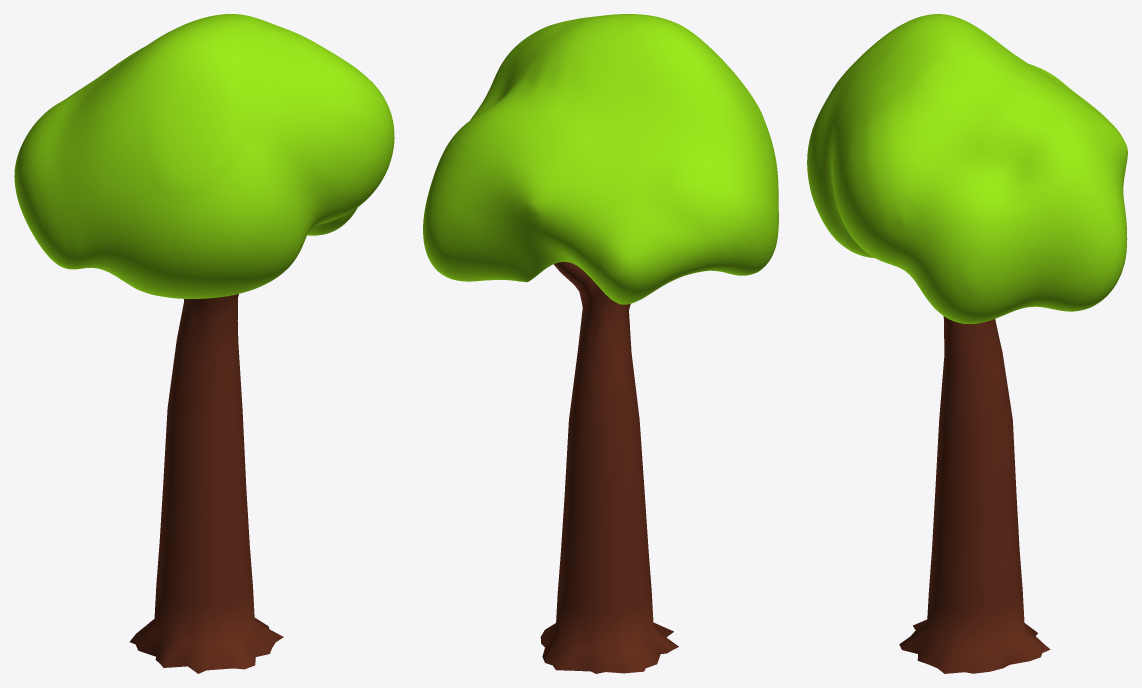
The model's file is ClimbingTree.fbx.
3 renders of one model, left to right at view 1: azimuth 30°, elevation 25°; view 2: azimuth 150°, elevation 25°; view 3: azimuth 270°, elevation 25°, orthographic. The views are drawn at different scales.
Visible parts, largest first — view 1: TreeLeaves, Tree; view 2: TreeLeaves, Tree; view 3: TreeLeaves, Tree.
Boxes of the visible parts, bbox=[...] form: TreeLeaves: bbox=[14, 14, 394, 298]; Tree: bbox=[130, 294, 283, 673]; TreeLeaves: bbox=[423, 14, 778, 304]; Tree: bbox=[540, 261, 678, 673]; TreeLeaves: bbox=[807, 14, 1127, 324]; Tree: bbox=[899, 316, 1050, 673].
Size of the model in its own units: 876 by 1643 by 780.
